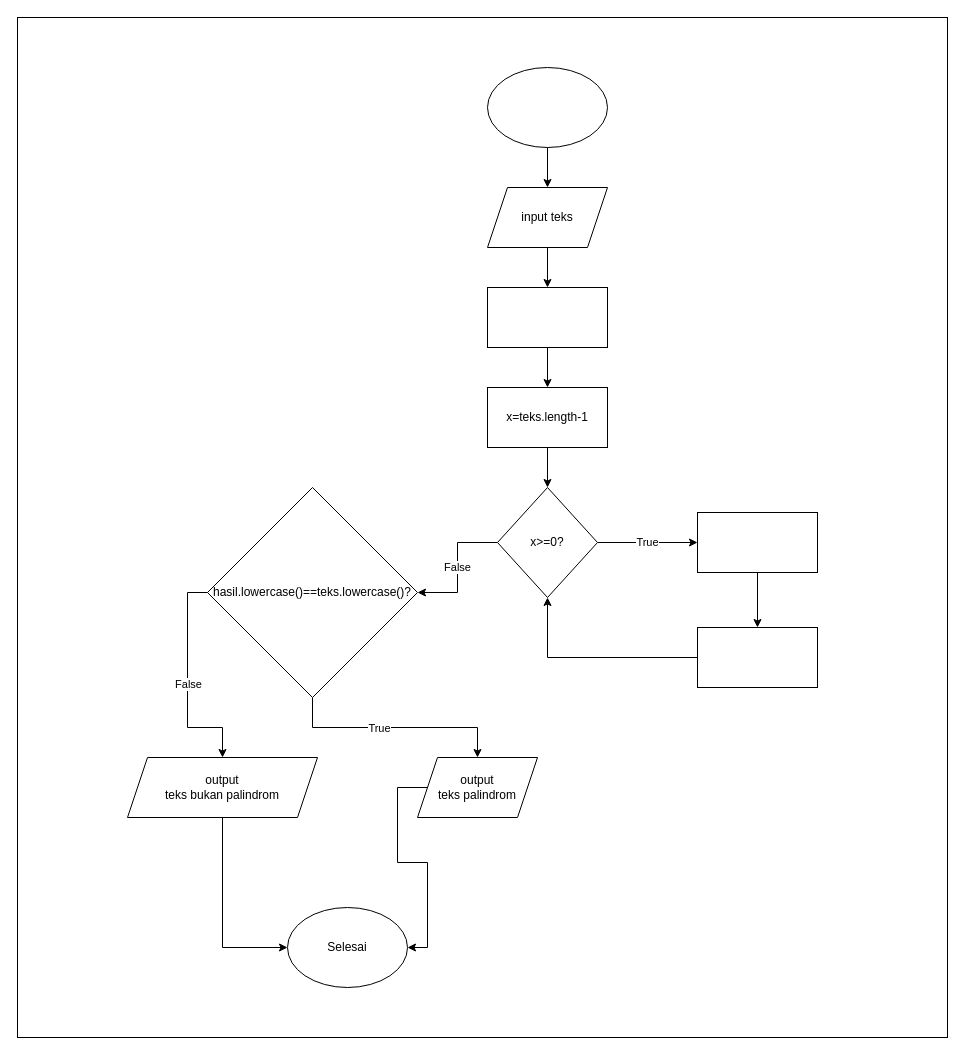
This 965x1055 diagram has some shape labels left out. Here are the shapes that lost their labels. From the top down, the centre of each, then its label:
(547,107): Mulai
(547,317): deklarasi hasil=""
(757,542): hasil = hasil+teks[x]
(757,657): x=x-1
